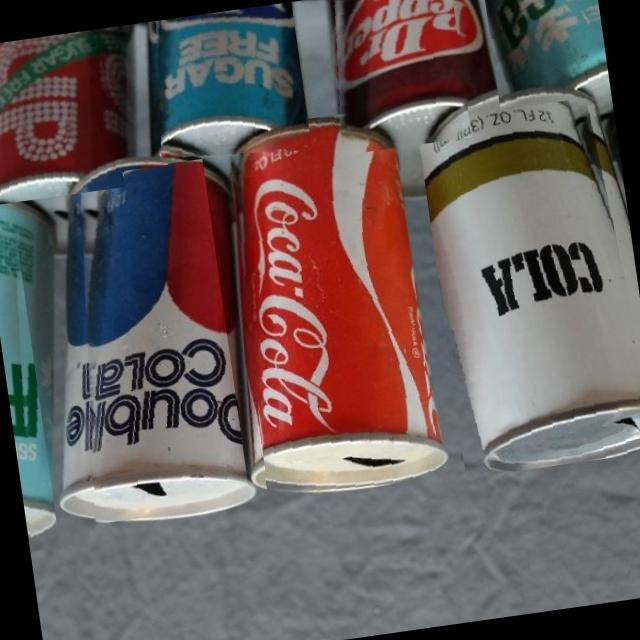Cans: (413, 80, 640, 477), (216, 106, 442, 503), (46, 157, 250, 523), (142, 1, 311, 169), (319, 0, 471, 154), (0, 166, 59, 550), (0, 28, 123, 206), (480, 0, 609, 109)
